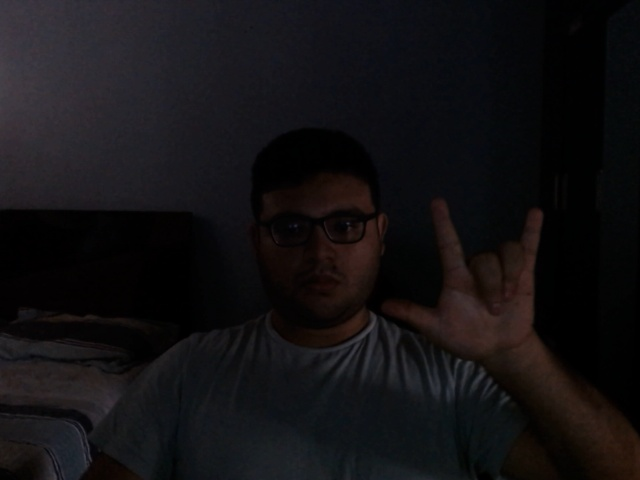I love you: (378, 195, 549, 365)
